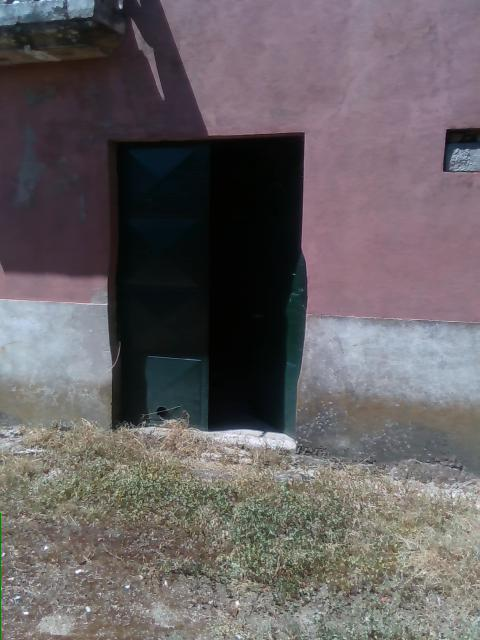door: (108, 132, 307, 442)
